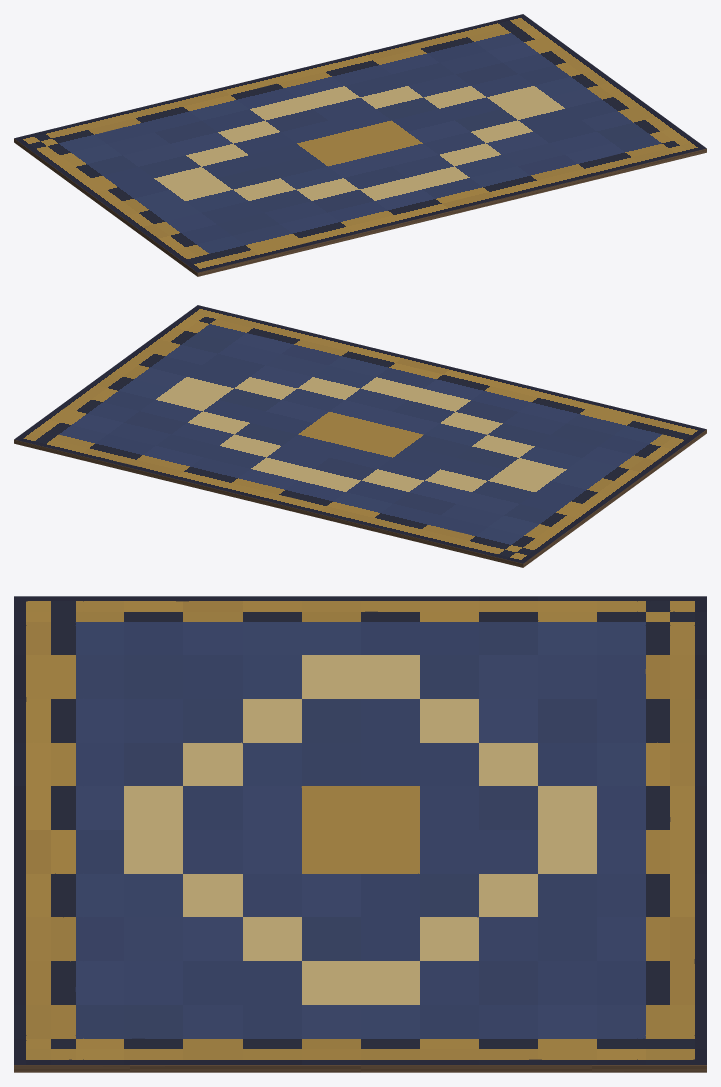
Rendered from rug-medium.glb.
3 views of the same model, one above another, from view 1: azimuth 30°, elevation 25°; view 2: azimuth 150°, elevation 25°; view 3: azimuth 270°, elevation 25° (orthographic). The views are drawn at different scales.
Parts seen in each view (by area): view 1: rug-medium.001; view 2: rug-medium.001; view 3: rug-medium.001.
Part boxes in pixels (x1=…): rug-medium.001: x1=14, y1=14, x2=706, y2=276; rug-medium.001: x1=14, y1=305, x2=706, y2=567; rug-medium.001: x1=14, y1=596, x2=706, y2=1072.
Bounding box in the file's own units: 1.6 × 0.0125 × 0.9999.
1 material, 1 textured.
